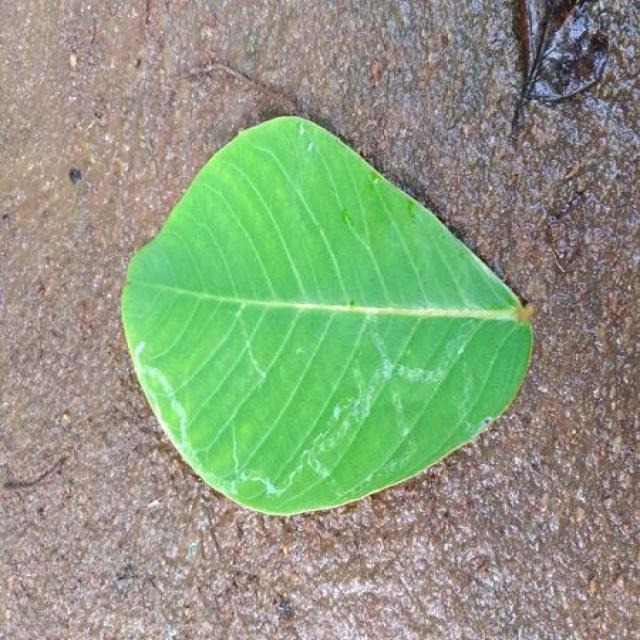chakte: (122, 116, 532, 514)
